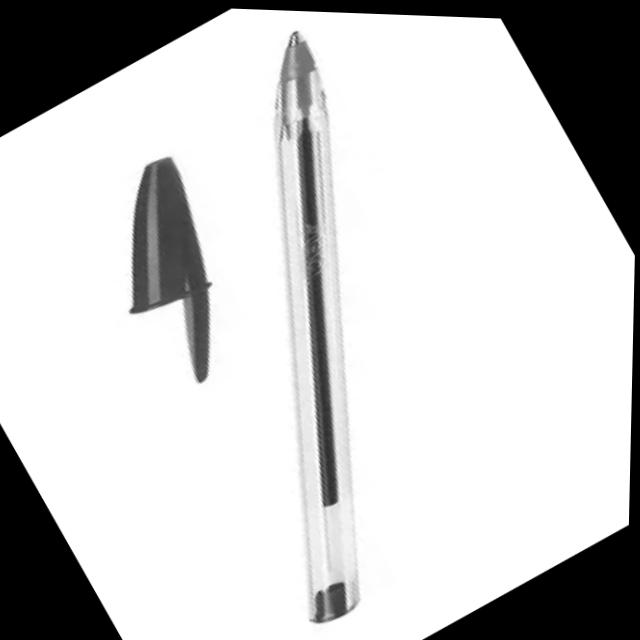pen: (36, 19, 573, 640)
